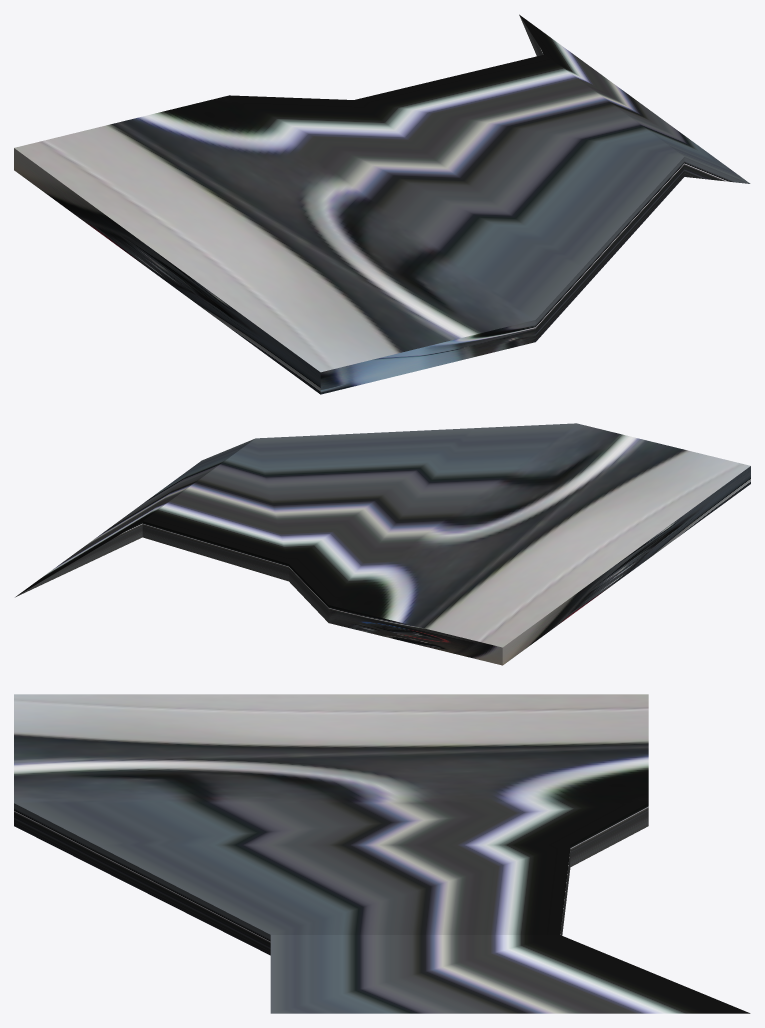
3 views of the same model, one above another, from view 1: azimuth 30°, elevation 25°; view 2: azimuth 150°, elevation 25°; view 3: azimuth 270°, elevation 25° (orthographic). The views are drawn at different scales.
Parts seen in each view (by area): view 1: Wing-3.002_Cube.031; view 2: Wing-3.002_Cube.031; view 3: Wing-3.002_Cube.031.
Part boxes in pixels (box(x1,y1,x2,y2)): Wing-3.002_Cube.031: box(14, 14, 750, 394); Wing-3.002_Cube.031: box(15, 423, 750, 665); Wing-3.002_Cube.031: box(14, 694, 750, 1013).
Bounding box in the file's own units: 5.76 × 0.4323 × 6.4.
